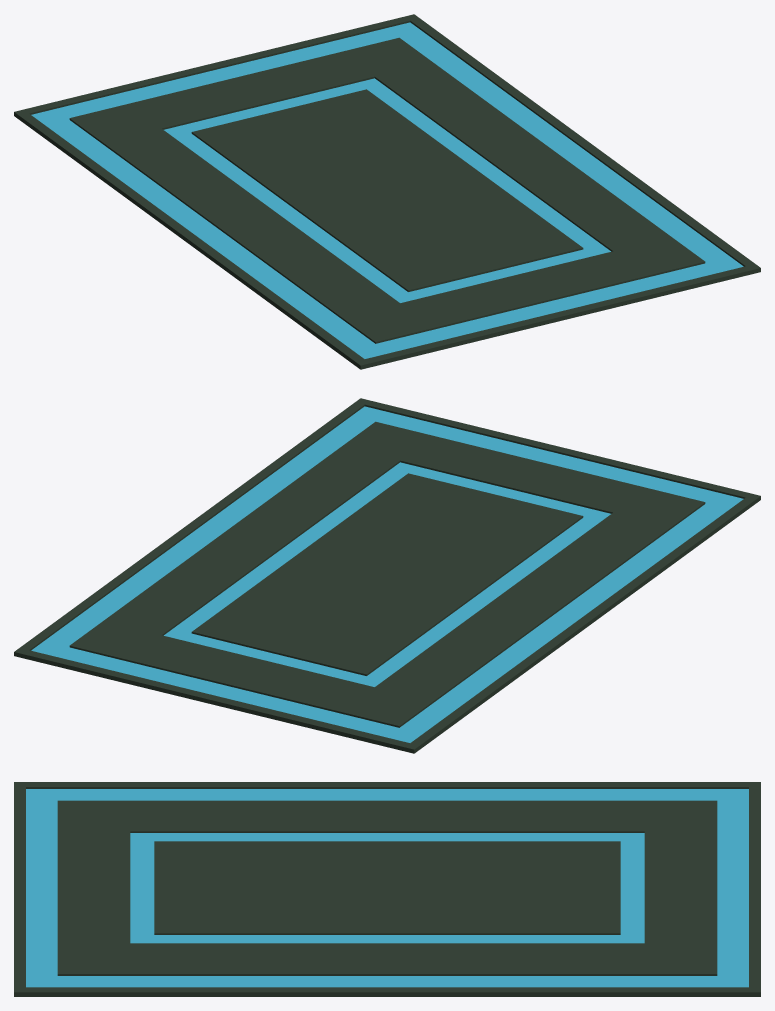
File: Itr_Carpet2_04.FBX
3 views of the same model, one above another, from view 1: azimuth 30°, elevation 25°; view 2: azimuth 150°, elevation 25°; view 3: azimuth 270°, elevation 25° (orthographic). The views are drawn at different scales.
Visible parts, largest first — view 1: Itr_Carpet2_04; view 2: Itr_Carpet2_04; view 3: Itr_Carpet2_04.
Boxes of the visible parts, <box> form: Itr_Carpet2_04: <box>14,14,760,369</box>; Itr_Carpet2_04: <box>14,398,760,753</box>; Itr_Carpet2_04: <box>14,782,760,996</box>.
Bounding box in the file's own units: 105 × 1.05 × 158.
